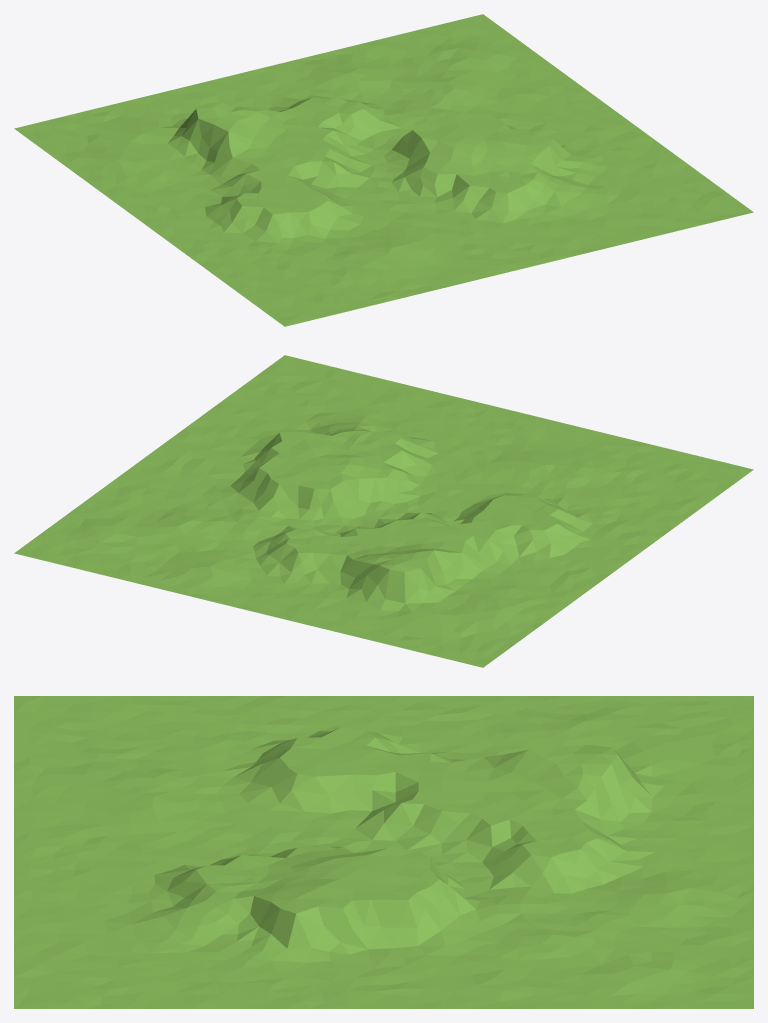
Rendered from MT_Terrain_L_d_10.fbx.
3 renders of one model, top to bottom at view 1: azimuth 30°, elevation 25°; view 2: azimuth 150°, elevation 25°; view 3: azimuth 270°, elevation 25°, orthographic. The views are drawn at different scales.
Visible parts, largest first — view 1: MT_Terrain_L_d_10; view 2: MT_Terrain_L_d_10; view 3: MT_Terrain_L_d_10.
Boxes of the visible parts, x1,y1,x2,y2 form: MT_Terrain_L_d_10: (14, 14, 753, 326); MT_Terrain_L_d_10: (14, 355, 753, 667); MT_Terrain_L_d_10: (14, 696, 753, 1008).
Size of the model in its own units: 10000 by 575 by 10000.
